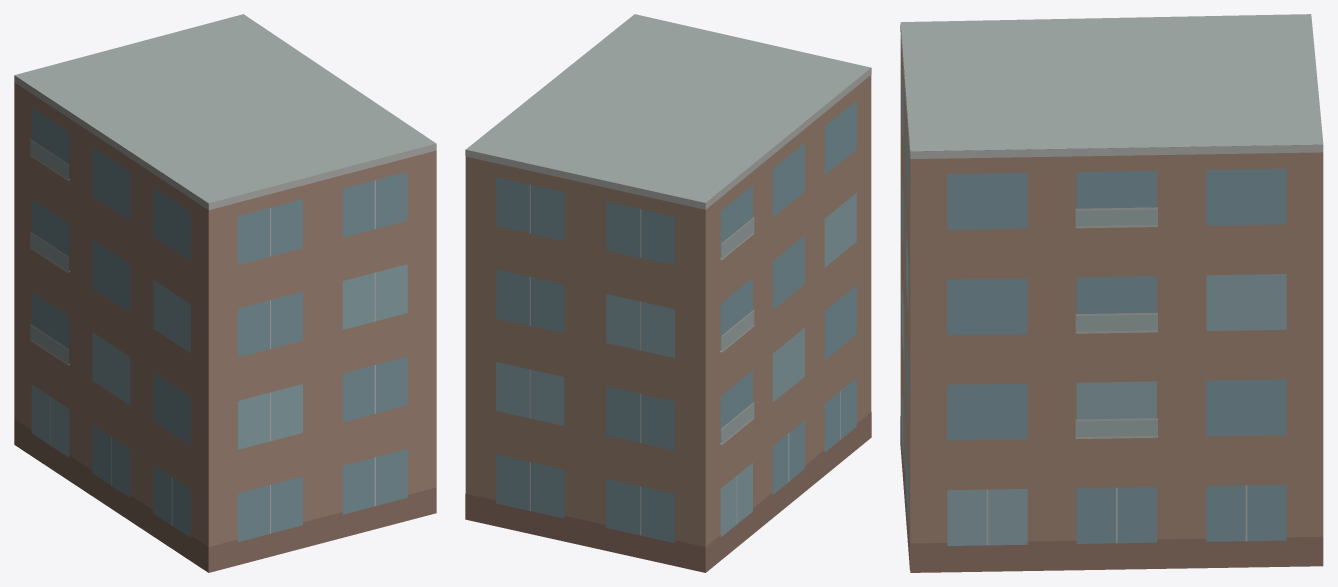
Rendered from survey-upis-32742561.glb.
3 views of the same model, side by side, from view 1: azimuth 30°, elevation 25°; view 2: azimuth 150°, elevation 25°; view 3: azimuth 270°, elevation 25° (orthographic). The views are drawn at different scales.
Parts seen in each view (by area): view 1: survey-upis-32742561.tmp; view 2: survey-upis-32742561.tmp; view 3: survey-upis-32742561.tmp.
Boxes of the visible parts, box(x1,y1,x2,y2) form: survey-upis-32742561.tmp: box(14, 14, 436, 572); survey-upis-32742561.tmp: box(465, 14, 871, 572); survey-upis-32742561.tmp: box(900, 14, 1323, 572).
Size of the model in its own units: 9.22 by 13.19 by 12.01.
